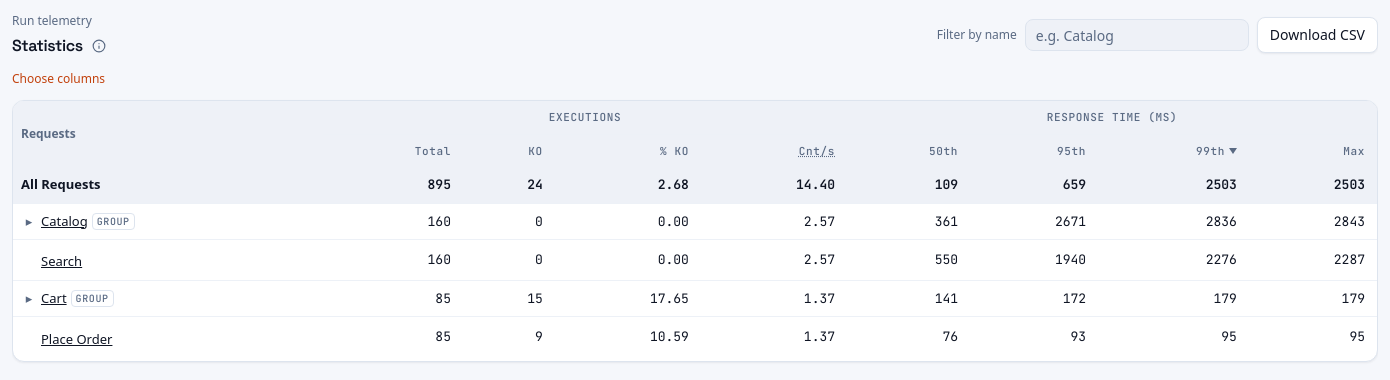
Scenario: StatisticsTable — the name filter (G-14) › says so when nothing matches, and keeps the run s own totals
This screenshot has width=1390, height=380.
Type "no row is named this" into the search field labelled "Filter by name" at (1137, 35), box [1025, 19, 1249, 51]
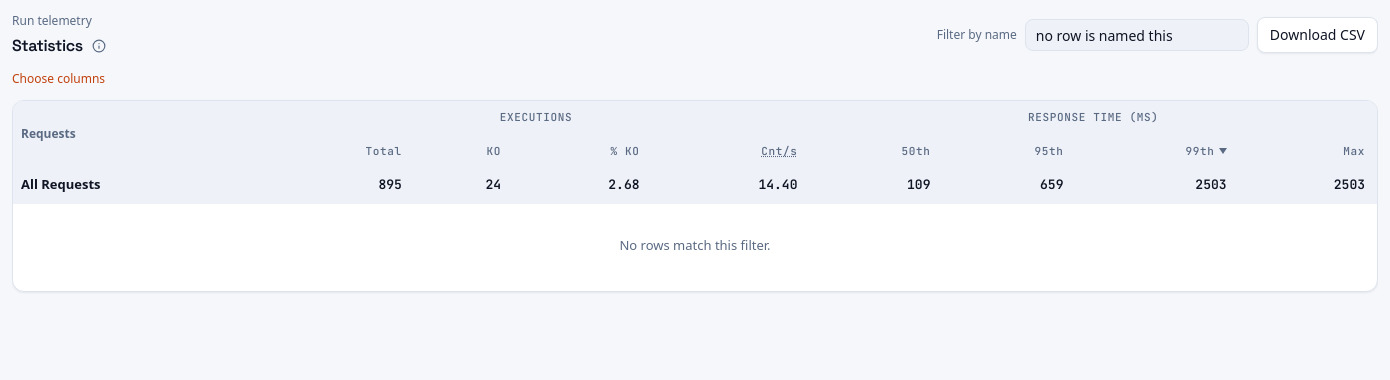
Now the text "No rows match this filter." is shown, box [13, 203, 1377, 287]
